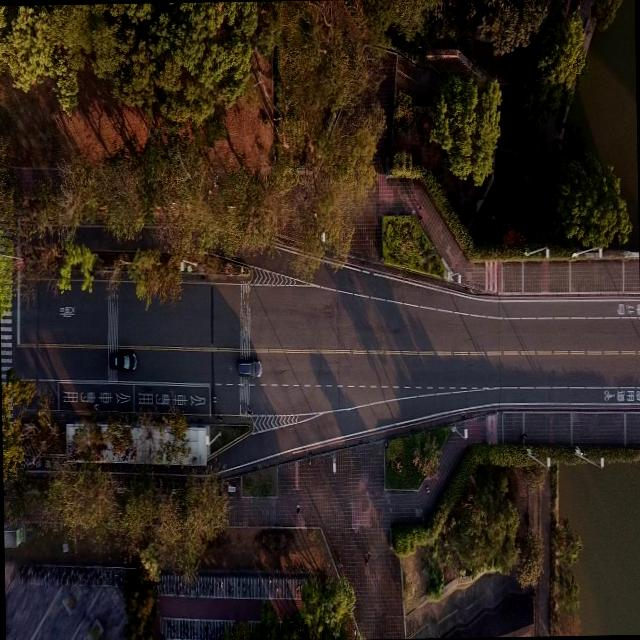car: (236, 358, 262, 378), (113, 350, 136, 370)
